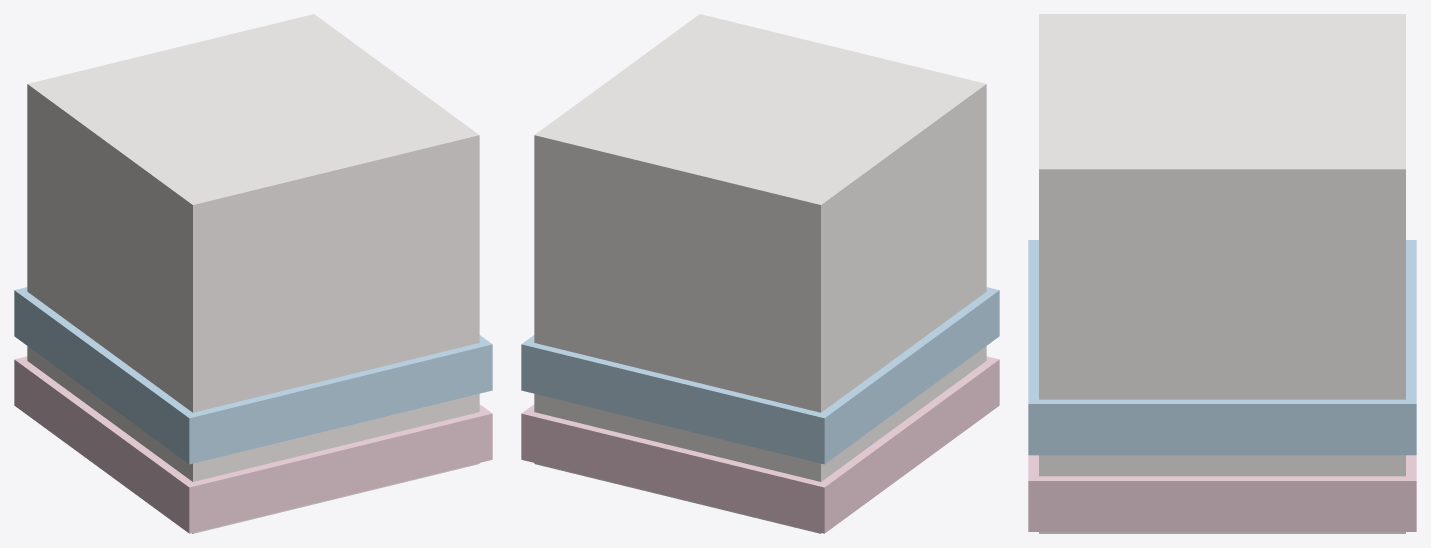
The model's file is coelha_pascoa_canela.glb.
3 views of the same model, side by side, from view 1: azimuth 30°, elevation 25°; view 2: azimuth 150°, elevation 25°; view 3: azimuth 270°, elevation 25° (orthographic). The views are drawn at different scales.
Parts seen in each view (by area): view 1: coelha_pascoa_canela; view 2: coelha_pascoa_canela; view 3: coelha_pascoa_canela.
Part boxes in pixels (x1,y1,x2,y2): coelha_pascoa_canela: (14,14,492,533); coelha_pascoa_canela: (521,14,999,533); coelha_pascoa_canela: (1028,14,1416,533).
Size of the model in its own units: 0.275 by 0.285 by 0.275.
